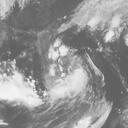cyclone: (48, 68, 89, 103)
